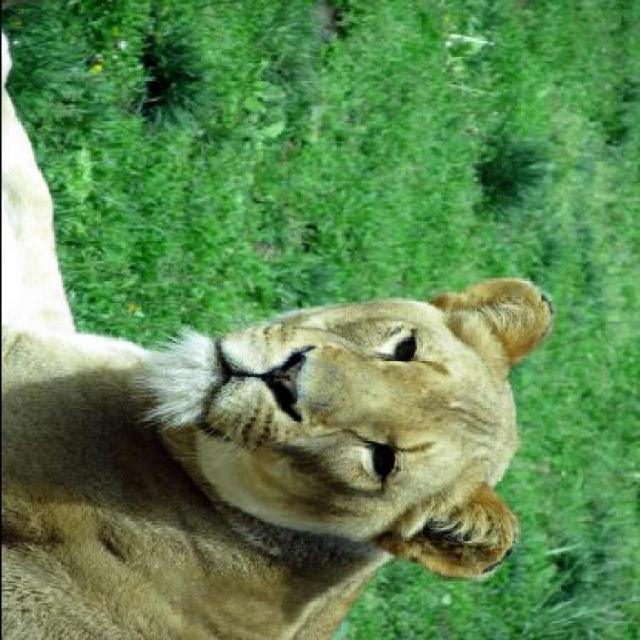Lion: (1, 0, 574, 637)
